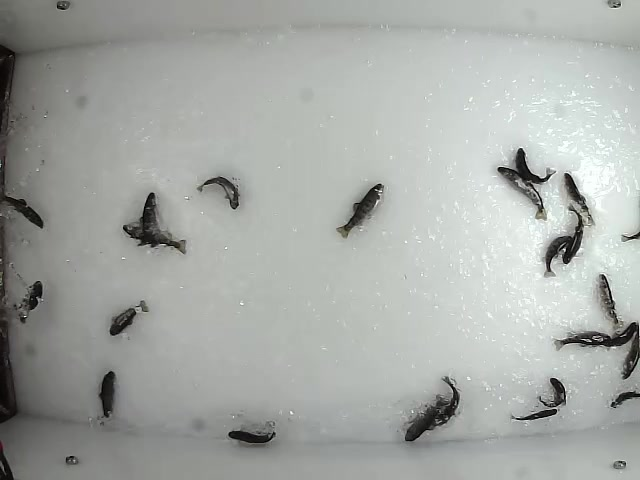fish: (334, 180, 385, 241), (496, 167, 549, 221), (401, 392, 453, 445), (121, 222, 188, 256), (562, 173, 597, 231), (1, 188, 47, 231), (105, 297, 151, 339), (515, 144, 557, 186), (135, 191, 163, 252), (430, 374, 461, 429), (560, 204, 587, 265), (542, 233, 576, 279), (14, 276, 45, 325), (195, 177, 239, 211), (223, 426, 277, 445), (537, 376, 567, 410), (96, 369, 117, 417), (509, 406, 558, 424)
